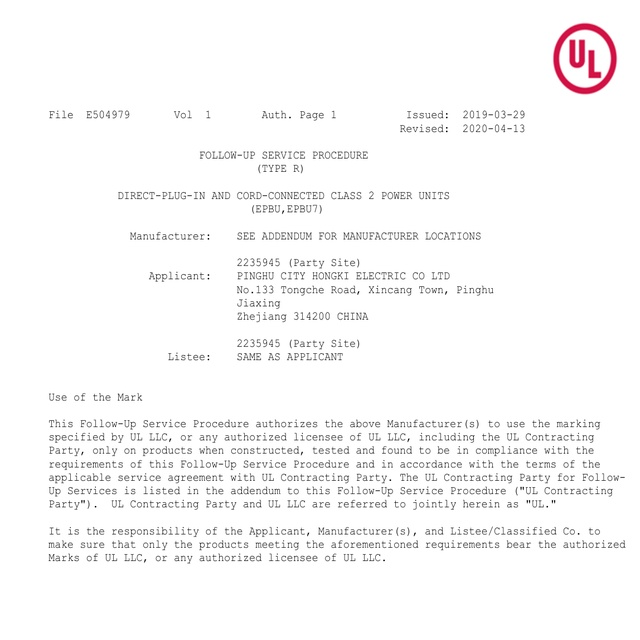ul: (552, 24, 617, 95)
